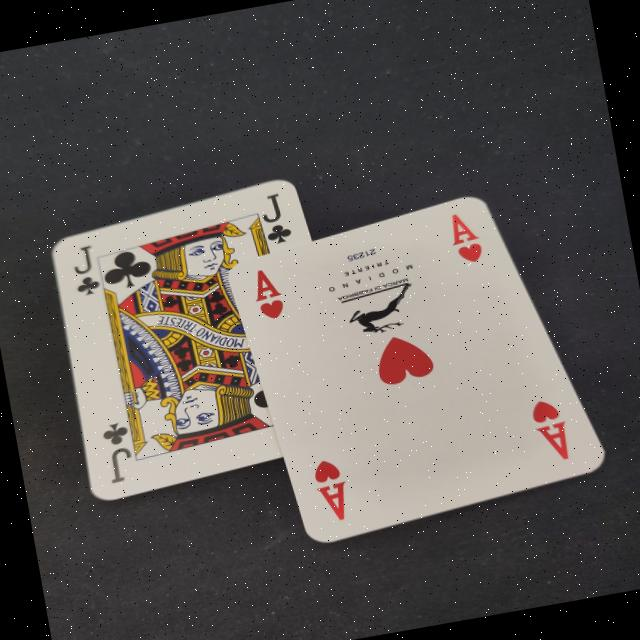Ah: (524, 391, 582, 472), (308, 451, 355, 526), (246, 262, 294, 328), (444, 207, 488, 268)
Jc: (98, 418, 140, 489), (252, 188, 297, 250), (66, 239, 108, 301)
